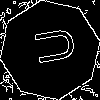U: (25, 25, 76, 68)
